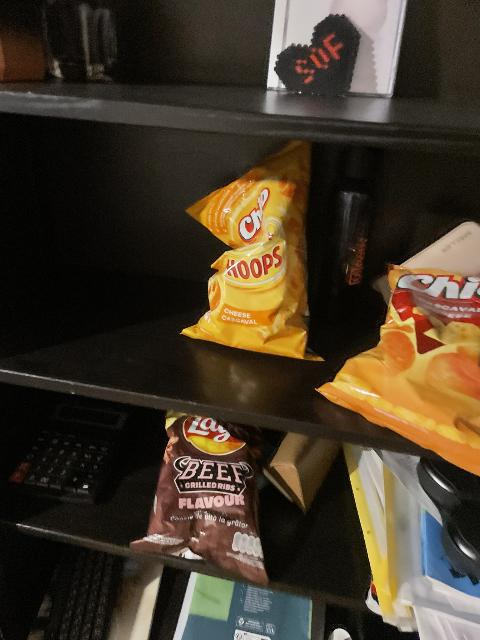Chio Cascaval 125g: (315, 269, 480, 478)
Chio Hula Hoops Cheese 70g: (176, 140, 318, 352)
Lays Beef Grilled Ribs 125g: (132, 413, 272, 587)
